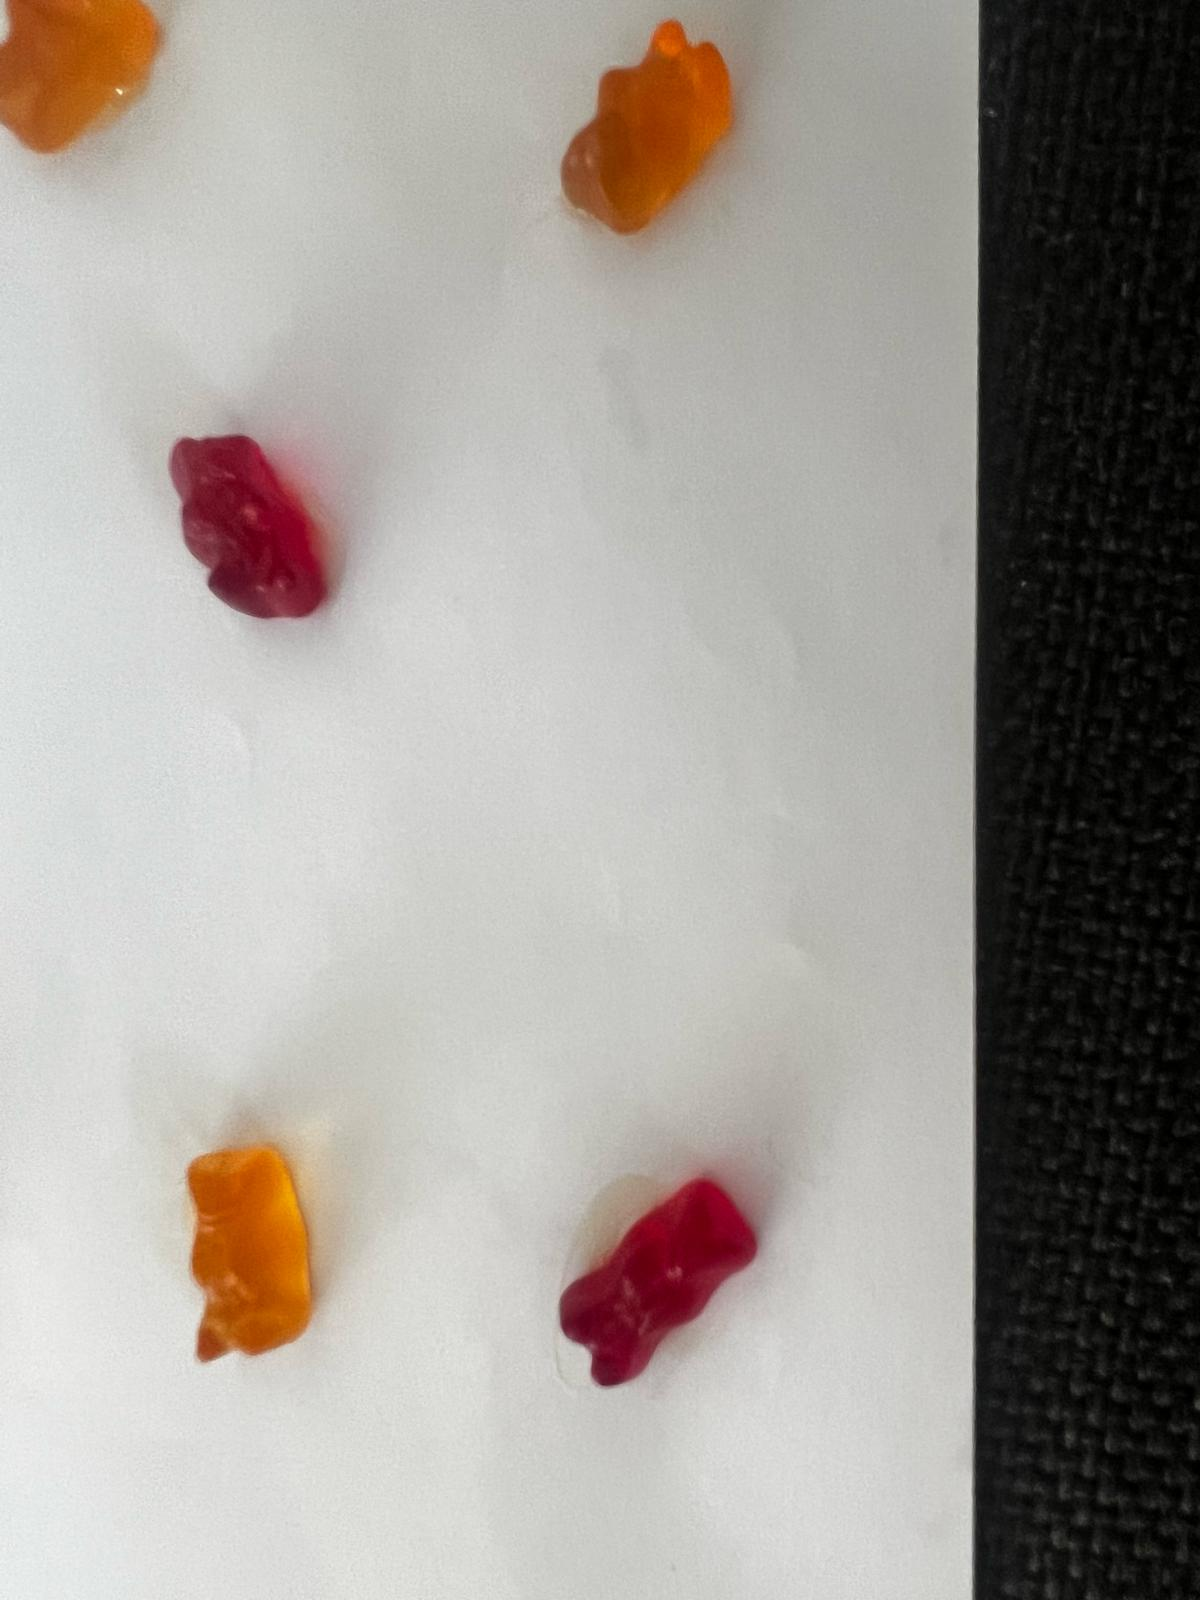gummybear: (538, 1160, 775, 1393), (533, 11, 749, 248), (142, 413, 361, 635), (166, 1112, 333, 1373)
